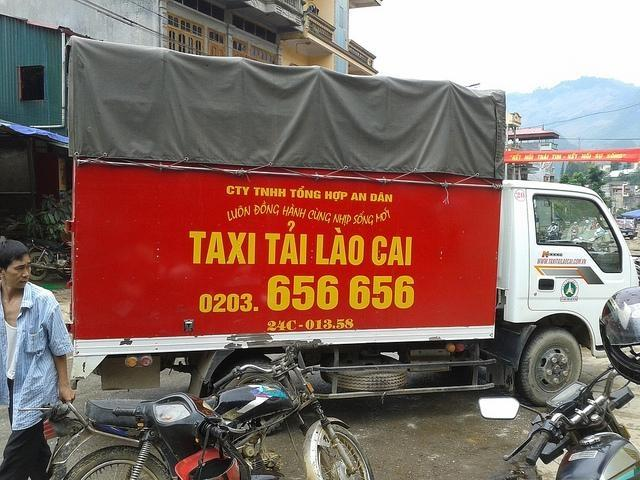motorcycle: (18, 340, 374, 480), (478, 366, 638, 472), (110, 392, 252, 480)
truck: (67, 35, 639, 407)
